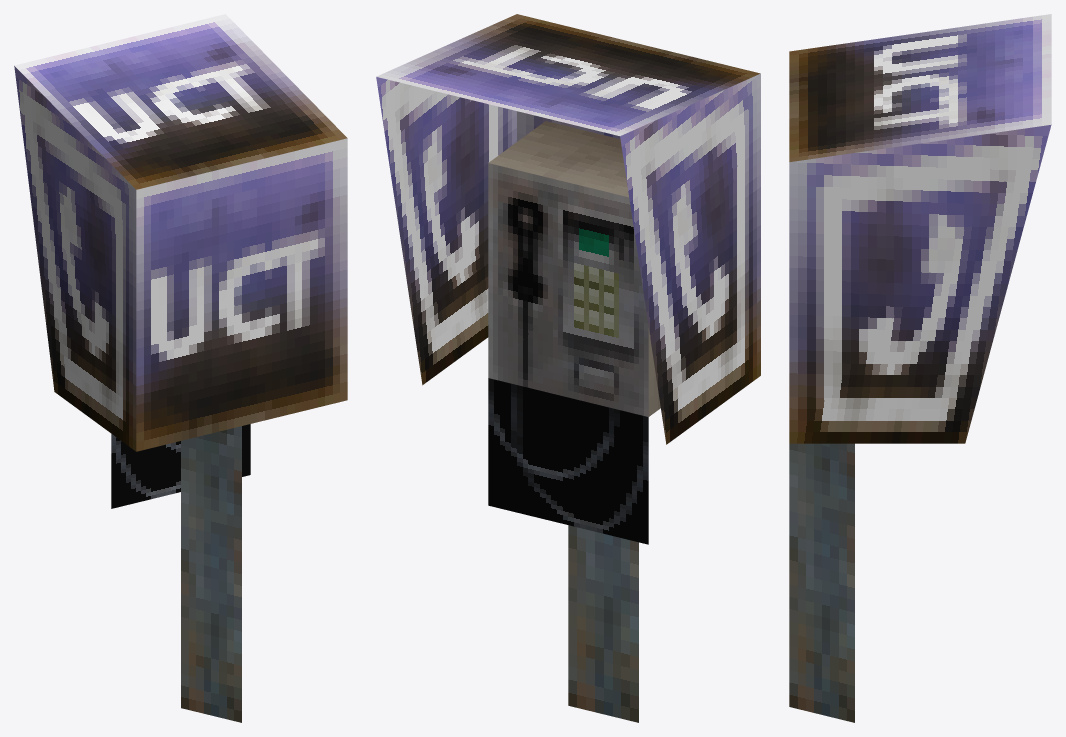
3 renders of one model, left to right at view 1: azimuth 30°, elevation 25°; view 2: azimuth 150°, elevation 25°; view 3: azimuth 270°, elevation 25°, orthographic. The views are drawn at different scales.
Visible parts, largest first — view 1: prim116-phonebooth; view 2: prim116-phonebooth; view 3: prim116-phonebooth.
Boxes of the visible parts, x1,y1,x2,y2 form: prim116-phonebooth: [14, 14, 347, 722]; prim116-phonebooth: [376, 14, 760, 722]; prim116-phonebooth: [789, 14, 1051, 722].
Size of the model in its own units: 76 by 204 by 76.
Materials: 4 (4 with a texture image).
